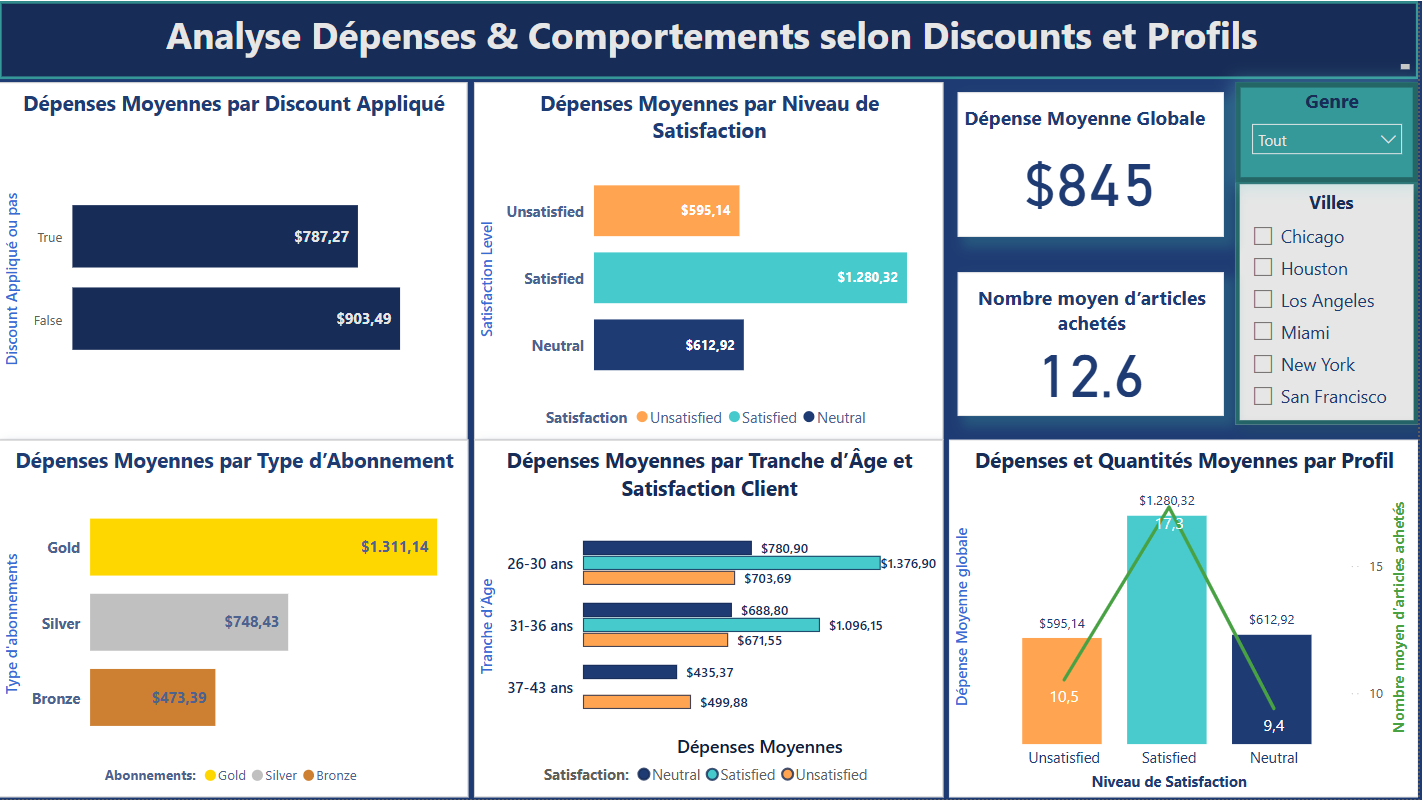

Layout of this report page (visuals, bound fields, positions):
{"tool":"powerbi","page":{"name":"Impact des Discounts","canvas":[1280,720],"ordinal":3},"visuals":[{"type":"textbox","title":"Analyse Dépenses & Comportements selon Discounts et Profils","box":[0,0,1280.3,70],"z":0},{"type":"barChart","title":"Dépenses Moyennes par Discount Appliqué","fields":{"Category":["e_commerce_Customer_Behavior.Discount Applied"],"Y":["Avg(e_commerce_Customer_Behavior.Total Spend)"]},"box":[0,73.3,422.1,322.1],"z":1000},{"type":"barChart","title":" Dépenses Moyennes par Type d’Abonnement","fields":{"Y":["e_commerce_Customer_Behavior.Dépense Moyenne globale"],"Category":["e_commerce_Customer_Behavior.Membership Type"],"Series":["e_commerce_Customer_Behavior.Membership Type"]},"box":[0,395.3,423,322],"z":2000},{"type":"slicer","title":"Villes","fields":{"Values":["e_commerce_Customer_Behavior.City"]},"box":[1115.1,161.6,165.1,220.9],"z":3000},{"type":"slicer","title":"Genre","fields":{"Values":["e_commerce_Customer_Behavior.Gender"]},"box":[1115.1,73.3,165.1,90.7],"z":4000},{"type":"barChart","title":"Dépenses Moyennes par Niveau de Satisfaction","fields":{"Y":["e_commerce_Customer_Behavior.Dépense Moyenne globale"],"Category":["e_commerce_Customer_Behavior.Satisfaction Level"],"Series":["e_commerce_Customer_Behavior.Satisfaction Level"]},"box":[427.9,73.3,423.3,322.1],"z":5000},{"type":"clusteredBarChart","title":"Dépenses Moyennes par Tranche d’Âge et Satisfaction Client","fields":{"Category":["e_commerce_Customer_Behavior.Age Group"],"Y":["e_commerce_Customer_Behavior.Dépense Moyenne globale"],"Series":["e_commerce_Customer_Behavior.Satisfaction Level"]},"box":[428,395.3,423,322],"z":6000},{"type":"lineStackedColumnComboChart","title":"Dépenses et Quantités Moyennes par Profil","fields":{"Category":["e_commerce_Customer_Behavior.Satisfaction Level"],"Y2":["e_commerce_Customer_Behavior.Items Moyens"],"Y":["e_commerce_Customer_Behavior.Dépense Moyenne globale"]},"box":[857.1,395.6,422.9,322],"z":7000},{"type":"card","title":"Dépense Moyenne Globale","fields":{"Values":["e_commerce_Customer_Behavior.Dépense Moyenne globale"]},"box":[864.6,82.1,240.1,130.6],"z":8000},{"type":"card","title":"Nombre moyen d’articles achetés","fields":{"Values":["e_commerce_Customer_Behavior.Items Moyens"]},"box":[864.6,245.1,240.1,129.4],"z":9000}]}

Visuals, with their boxes in screenshot pixels (x1, y1, x2, y2), scaled from the page's 1280x720 canvas onto the 1422x800 screenshot:
"Analyse Dépenses & Comportements selon Discounts et Profils" textbox: (0, 0, 1421, 78)
"Dépenses Moyennes par Discount Appliqué" barChart: (0, 81, 469, 439)
" Dépenses Moyennes par Type d’Abonnement" barChart: (0, 439, 470, 797)
"Villes" slicer: (1239, 180, 1421, 425)
"Genre" slicer: (1239, 81, 1421, 182)
"Dépenses Moyennes par Niveau de Satisfaction" barChart: (475, 81, 946, 439)
"Dépenses Moyennes par Tranche d’Âge et Satisfaction Client" clusteredBarChart: (475, 439, 945, 797)
"Dépenses et Quantités Moyennes par Profil" lineStackedColumnComboChart: (952, 440, 1421, 797)
"Dépense Moyenne Globale" card: (961, 91, 1227, 236)
"Nombre moyen d’articles achetés" card: (961, 272, 1227, 416)
